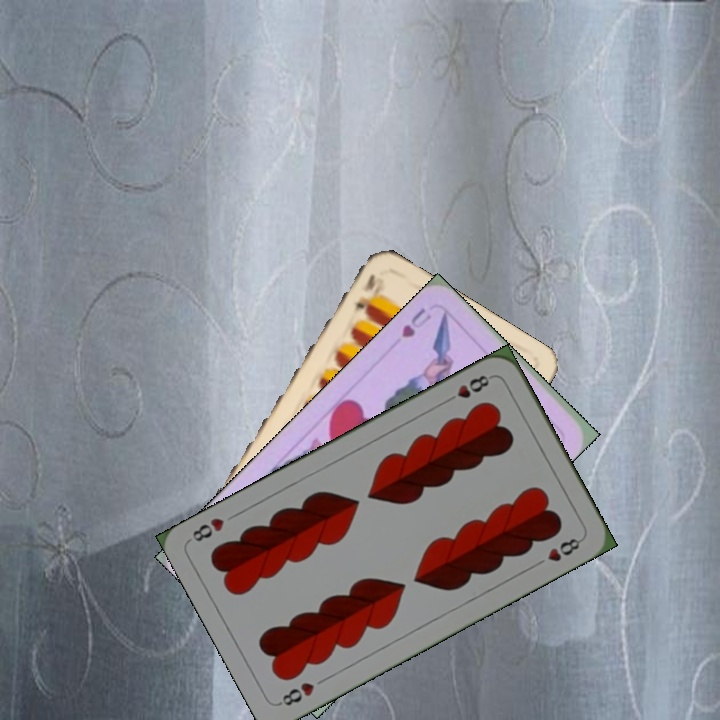E10: (350, 270, 378, 315)
H8: (441, 371, 495, 406), (275, 678, 317, 709)
HU: (397, 303, 434, 341)
